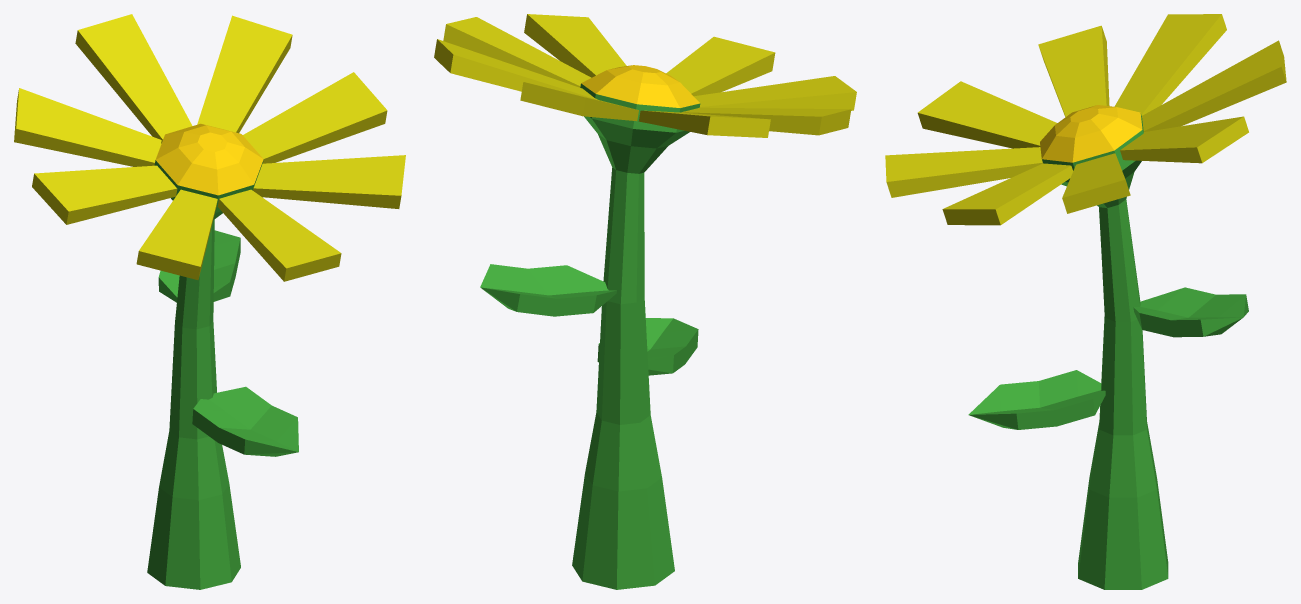
Rendered from flowerYellow.glb.
3 renders of one model, left to right at view 1: azimuth 30°, elevation 25°; view 2: azimuth 150°, elevation 25°; view 3: azimuth 270°, elevation 25°, orthographic. The views are drawn at different scales.
Parts seen in each view (by area): view 1: Flower.002; view 2: Flower.002; view 3: Flower.002.
Boxes of the visible parts, bbox=[...] form: Flower.002: bbox=[14, 14, 405, 589]; Flower.002: bbox=[434, 14, 856, 589]; Flower.002: bbox=[885, 14, 1286, 589].
Bounding box in the file's own units: 18.92 × 26.84 × 19.08.
